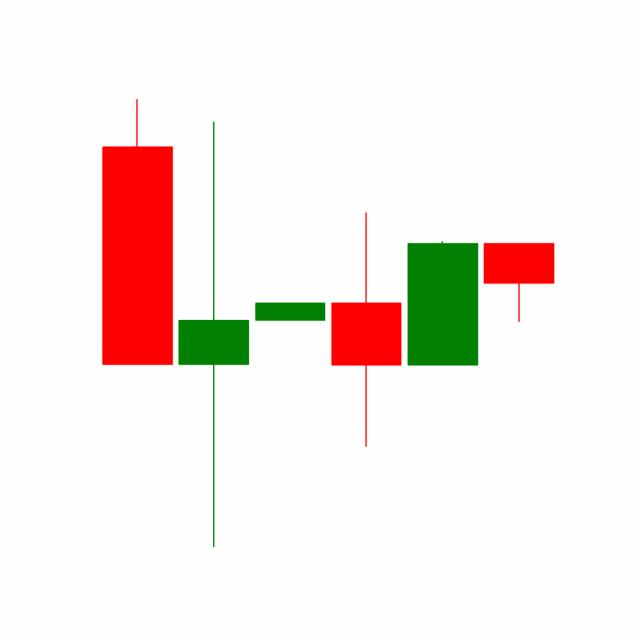Marubozu: (403, 239, 481, 366)
